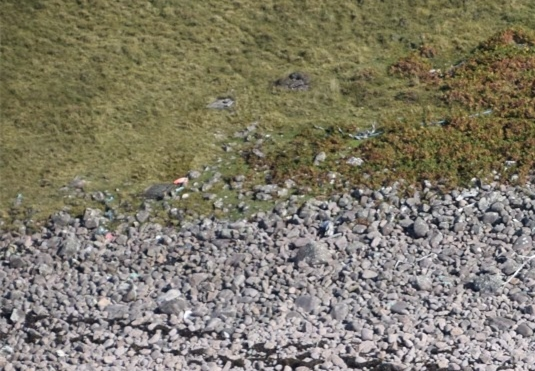tube: (425, 94, 503, 134)
white_in_green: (124, 151, 207, 222)
